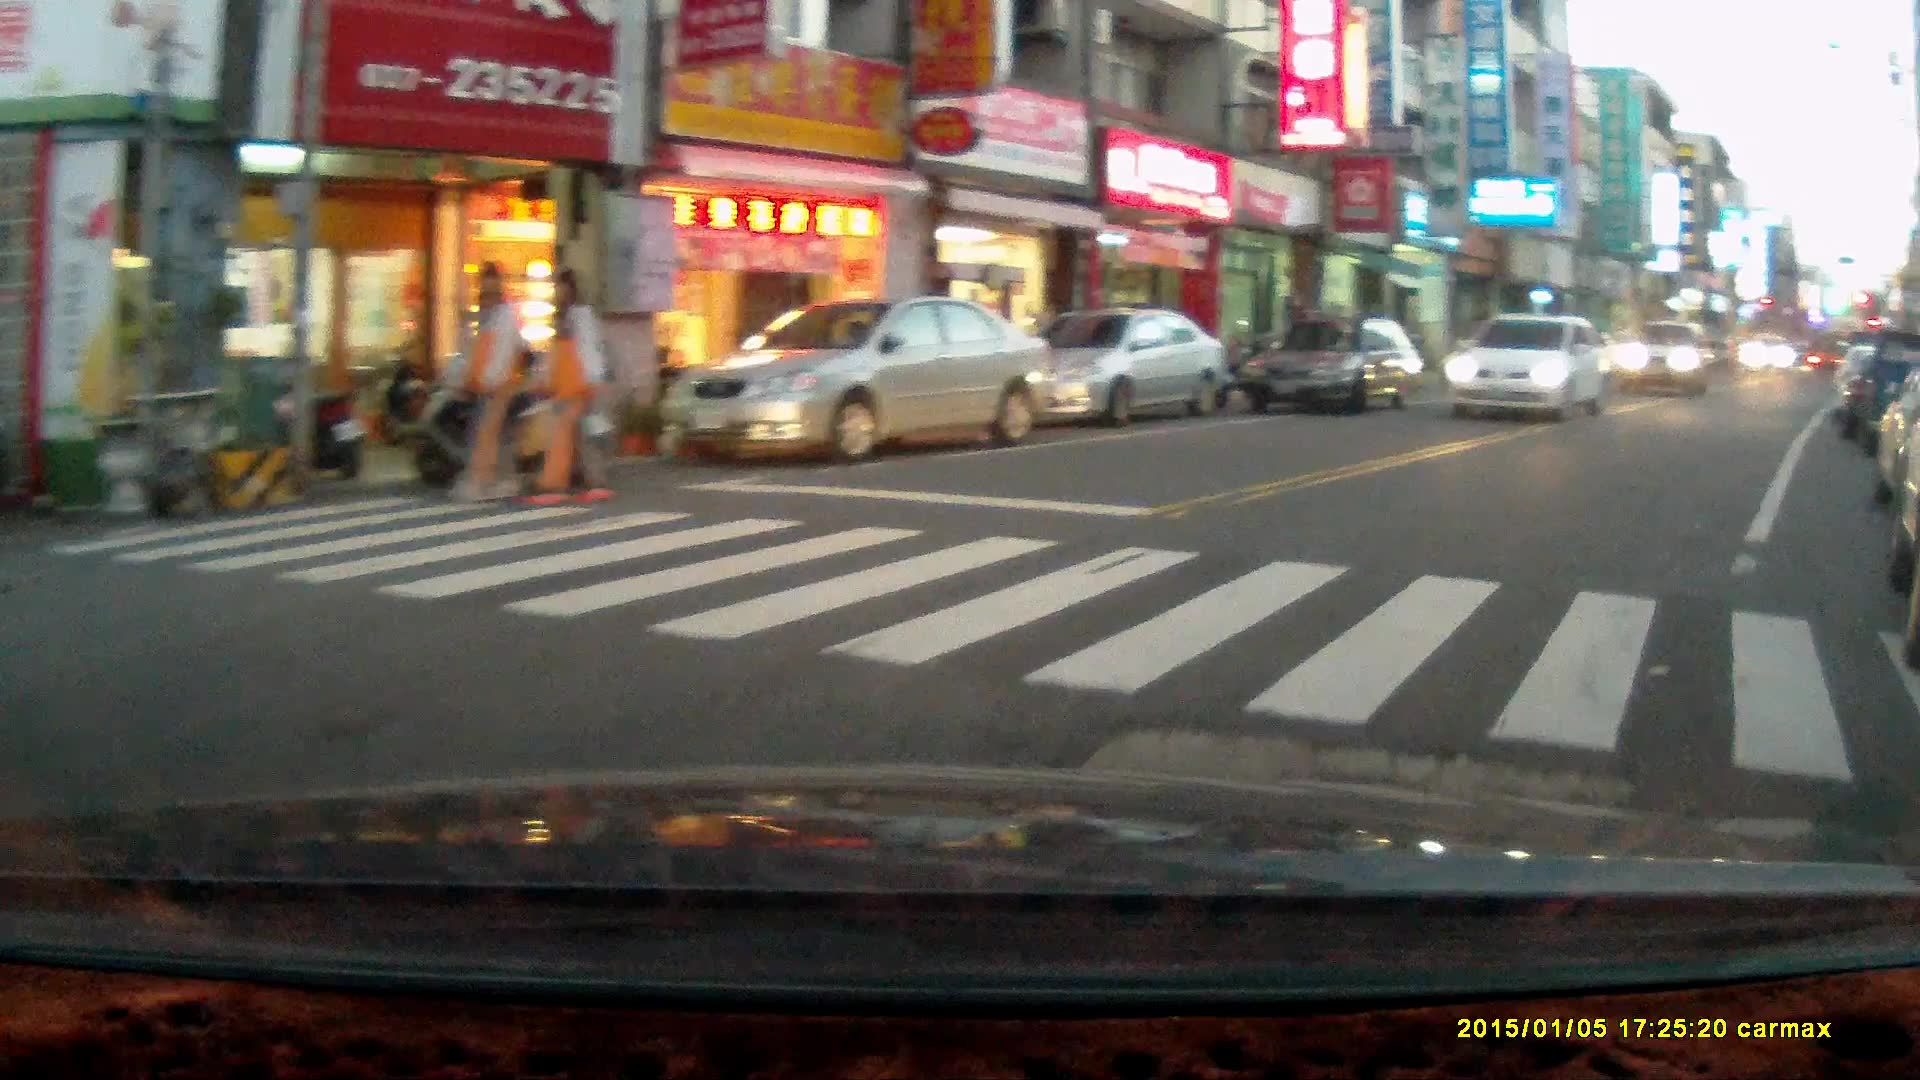pedestrian: (527, 265, 618, 510), (444, 260, 529, 501)
vehicle: (663, 298, 1051, 460), (994, 309, 1230, 424), (1442, 312, 1608, 421), (1239, 318, 1426, 413), (1609, 317, 1722, 399), (1739, 333, 1800, 379)
